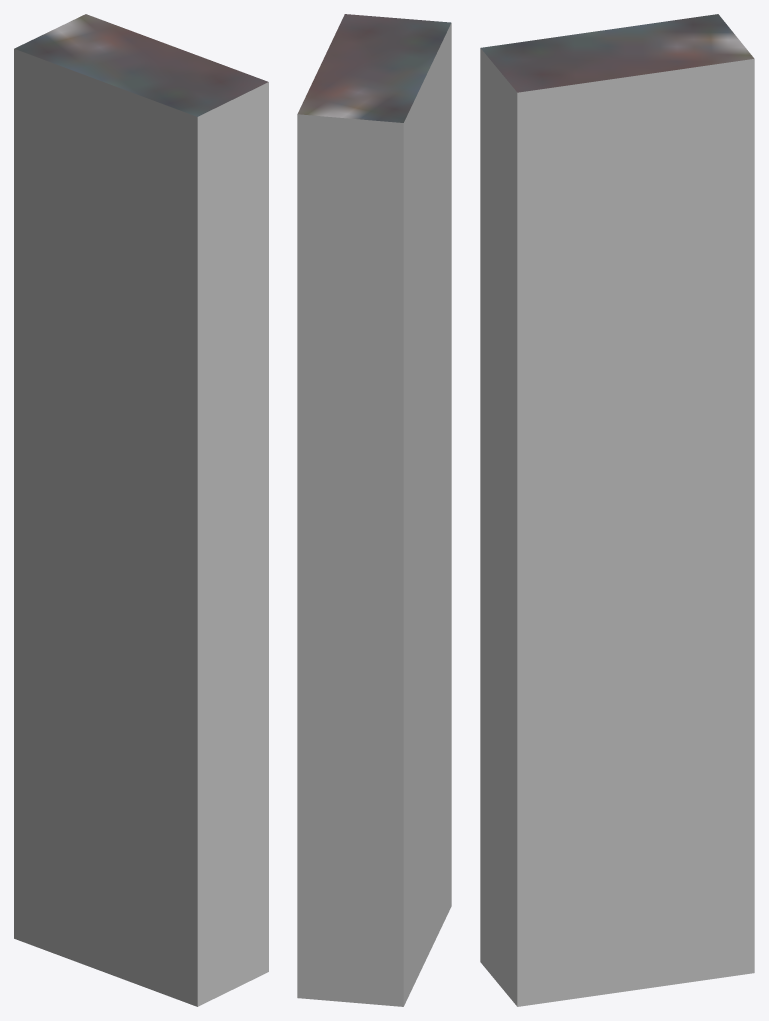
File: DEBW_0010007THW2.gltf
The picture shows the model from 3 angles, left to right: view 1: azimuth 30°, elevation 25°; view 2: azimuth 150°, elevation 25°; view 3: azimuth 270°, elevation 25°; orthographic projection. The views are drawn at different scales.
Parts seen in each view (by area): view 1: Z_UP; view 2: Z_UP; view 3: Z_UP.
Part boxes in pixels (x1,y1,x2,y2): Z_UP: (14,14,268,1006); Z_UP: (297,14,451,1006); Z_UP: (480,14,754,1006).
Bounding box in the file's own units: 2.16 × 11.7 × 3.18.
2 materials, 1 textured.
